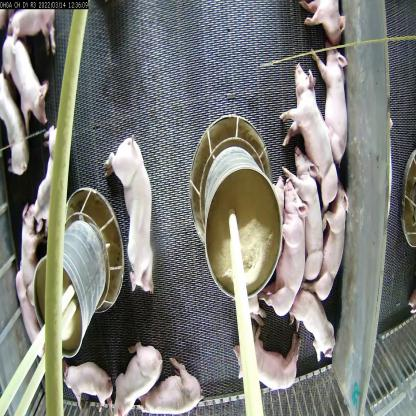Pig: (283, 63, 340, 208), (107, 125, 154, 288), (314, 37, 355, 165), (289, 160, 329, 284), (281, 287, 338, 367), (274, 174, 303, 322), (4, 34, 47, 133), (314, 182, 347, 310), (232, 327, 302, 387), (10, 209, 40, 342), (34, 125, 69, 237), (107, 332, 152, 412), (142, 356, 196, 416), (64, 350, 110, 407), (8, 13, 66, 58), (0, 82, 21, 184), (304, 0, 344, 38)
